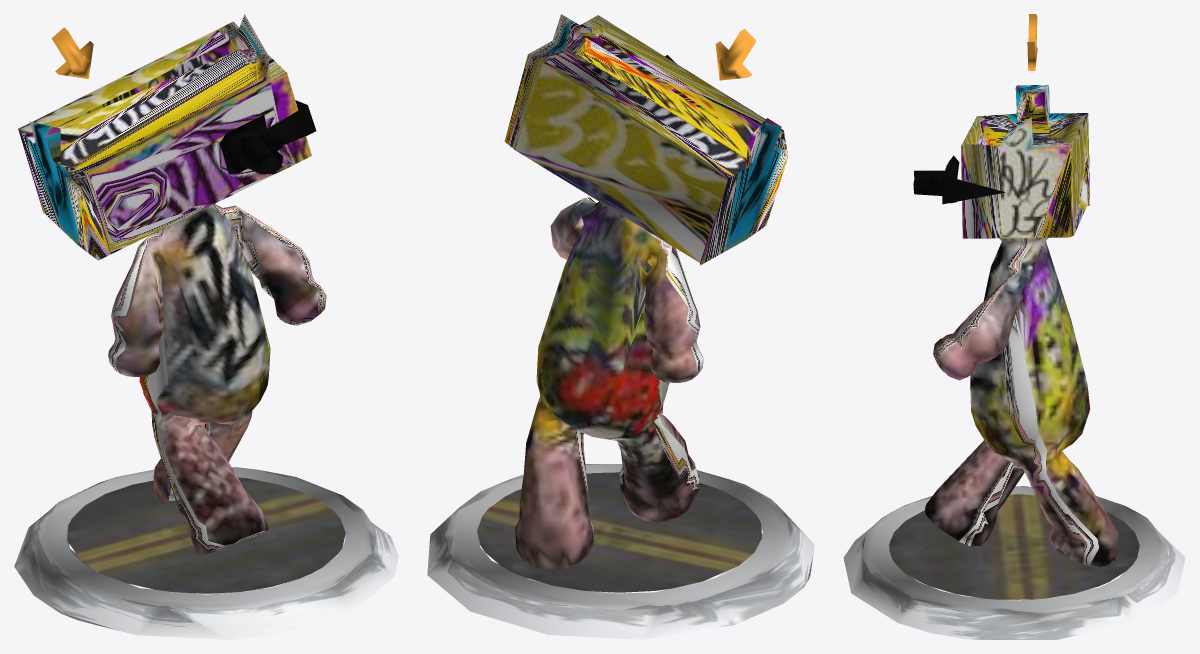
3 renders of one model, left to right at view 1: azimuth 30°, elevation 25°; view 2: azimuth 150°, elevation 25°; view 3: azimuth 270°, elevation 25°, orthographic. The views are drawn at different scales.
Size of the model in its own units: 1.42 by 2.3 by 1.43.
6 materials, 5 textured.
